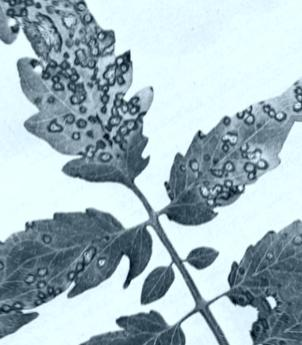Tomato Septoria leaf spot: (0, 0, 191, 215), (5, 163, 167, 323), (134, 88, 302, 242), (209, 189, 302, 319), (72, 290, 195, 345)
